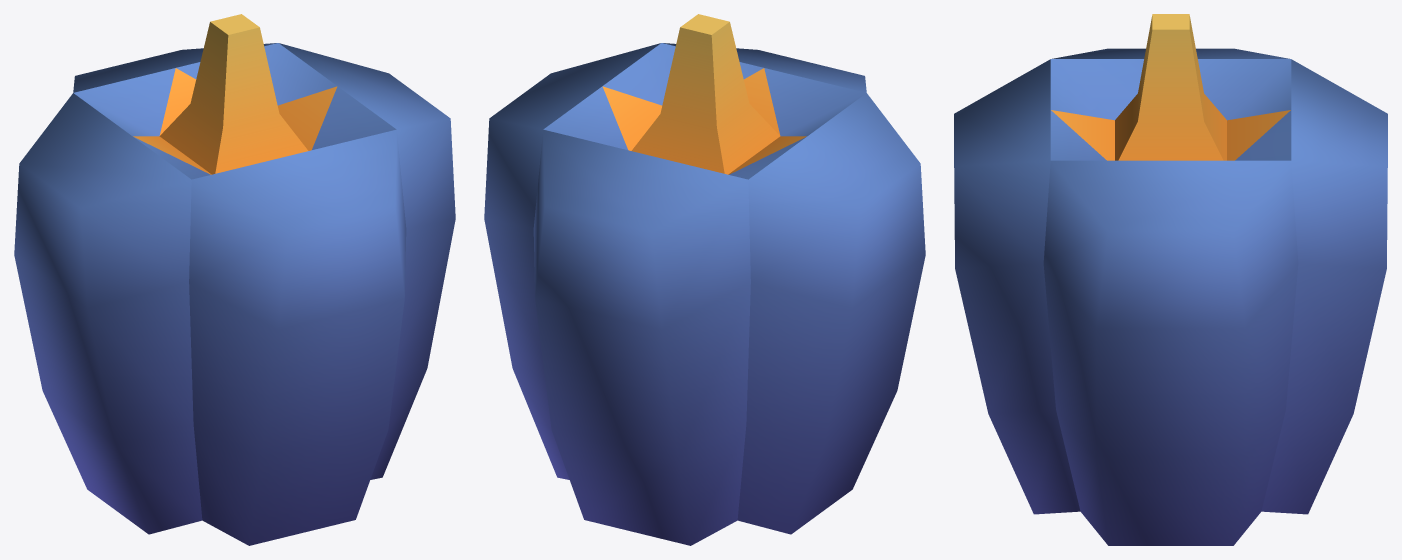
File: paprika.glb
The picture shows the model from 3 angles, left to right: view 1: azimuth 30°, elevation 25°; view 2: azimuth 150°, elevation 25°; view 3: azimuth 270°, elevation 25°; orthographic projection.
Parts seen in each view (by area): view 1: paprika; view 2: paprika; view 3: paprika.
Boxes of the visible parts, <box> form: paprika: <box>14,14,455,545</box>; paprika: <box>484,14,925,545</box>; paprika: <box>954,14,1387,545</box>.
Size of the model in its own units: 0.1681 by 0.1993 by 0.1681.
1 material, 1 textured.
